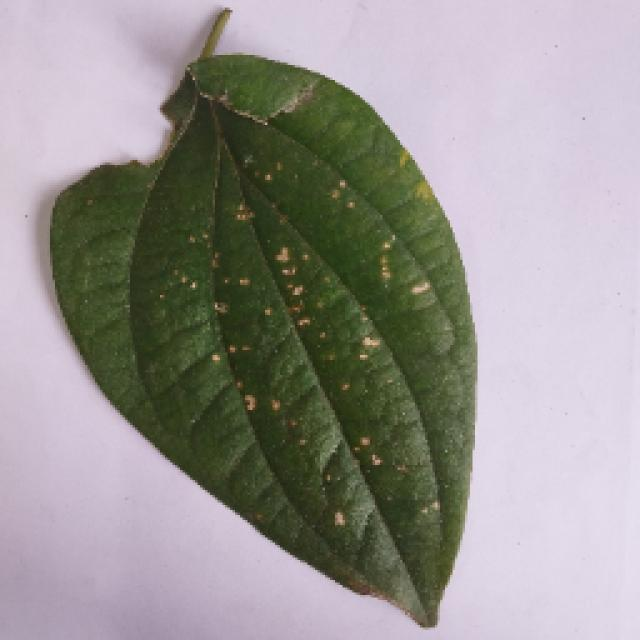pollu-disease: (25, 22, 503, 622)
